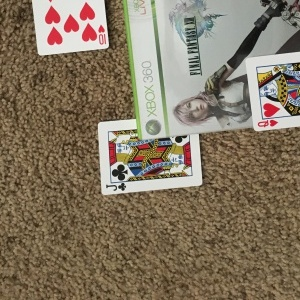card: (95, 117, 205, 195)
